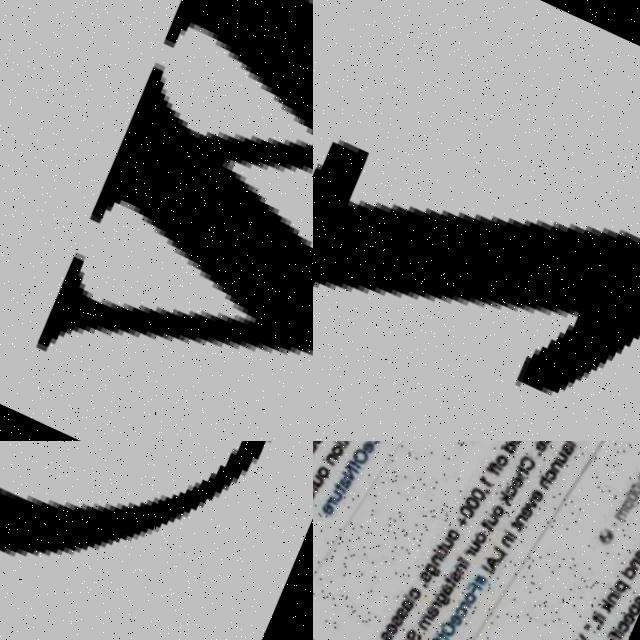0: (619, 483, 639, 501), (459, 491, 478, 509), (464, 483, 484, 500), (453, 500, 473, 517), (623, 475, 640, 492)
1: (474, 470, 492, 485), (635, 459, 640, 474)
2: (630, 465, 640, 481)
T: (313, 17, 640, 441)
W: (0, 0, 313, 441)
